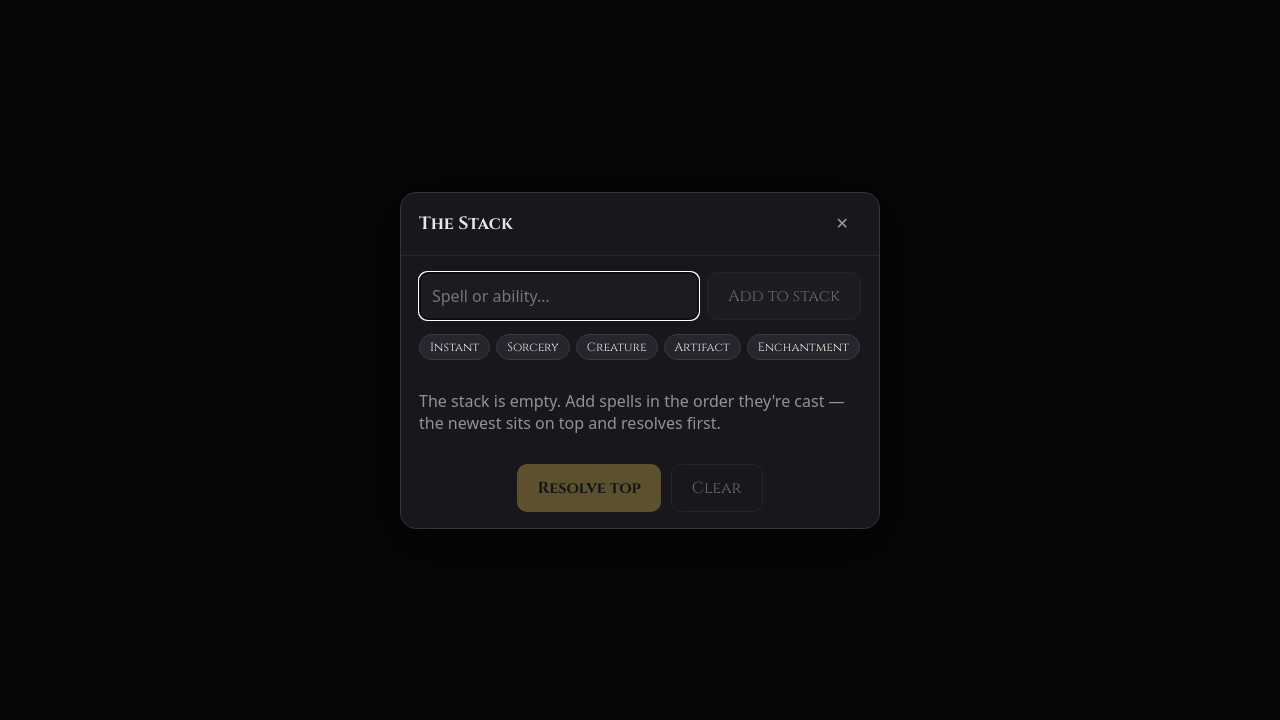
Test: the last thing added sits on top
In the field with placeholder "Spell or ability…": point(559, 296) [419, 272, 699, 320], type "Lightning Bolt"
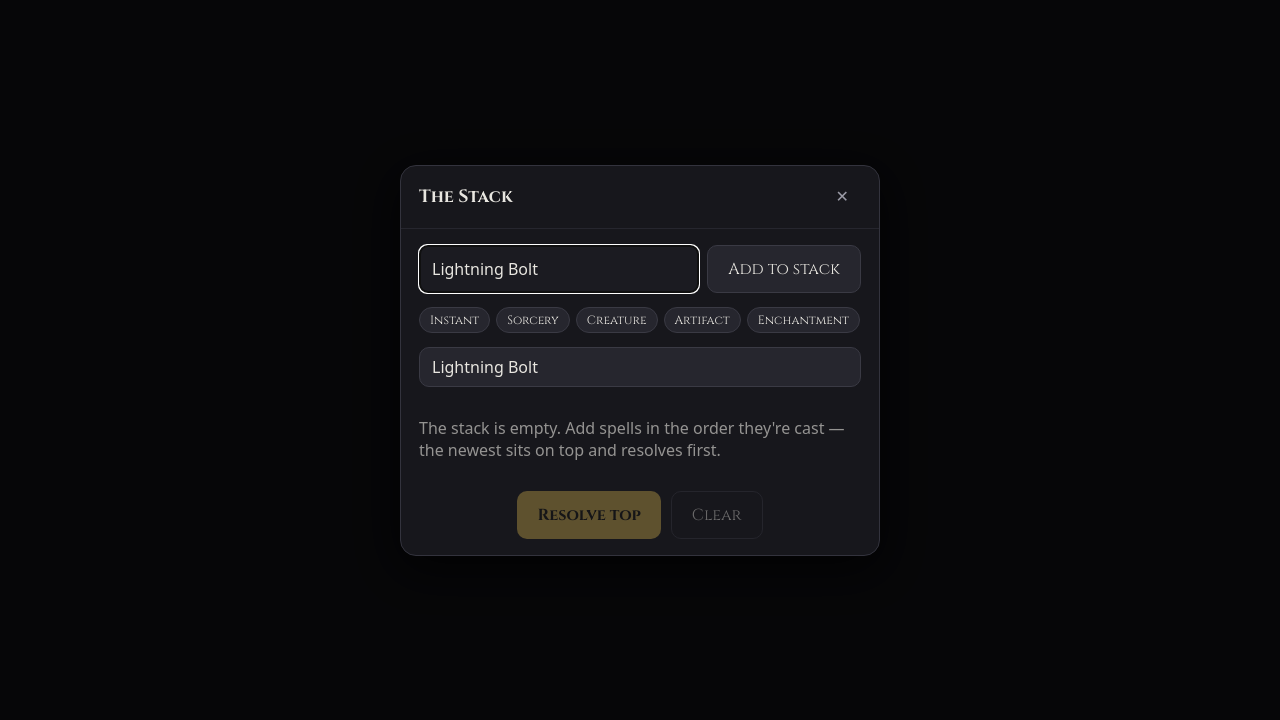
Click the button "Add to stack": point(784, 268) [707, 244, 861, 292]
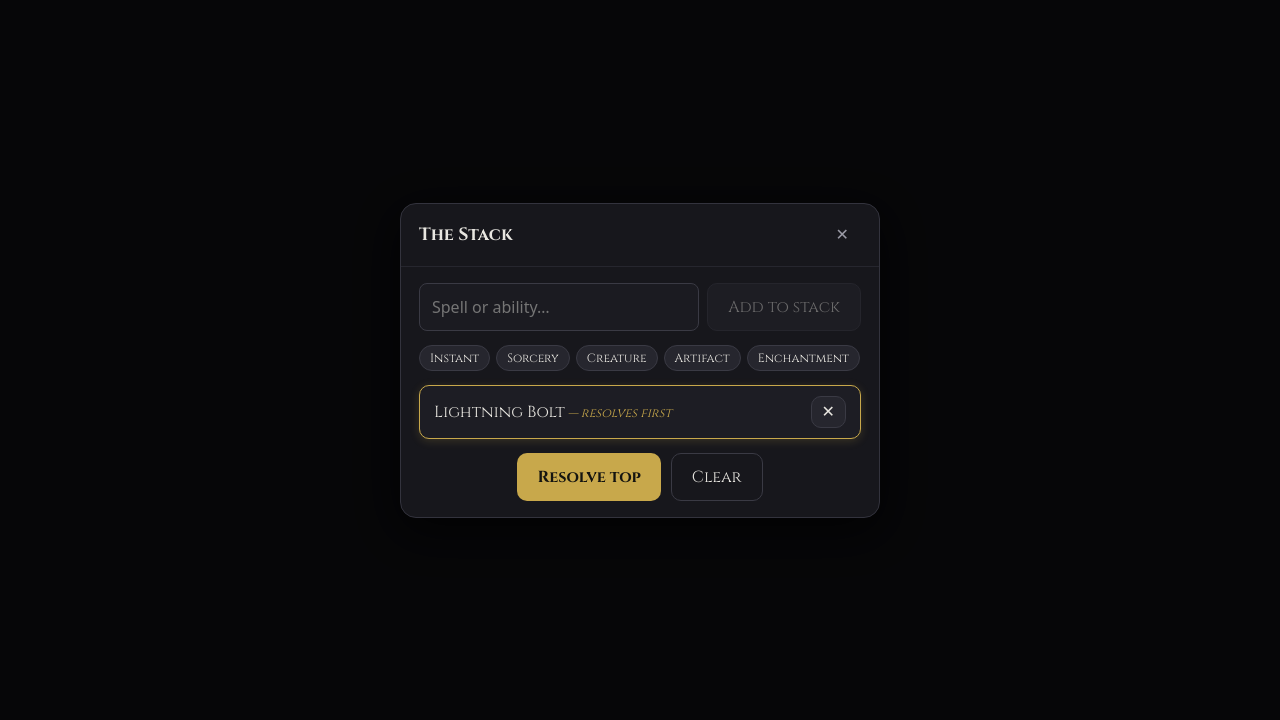
In the field with placeholder "Spell or ability…": point(559, 306) [419, 282, 699, 330], type "Counterspell"
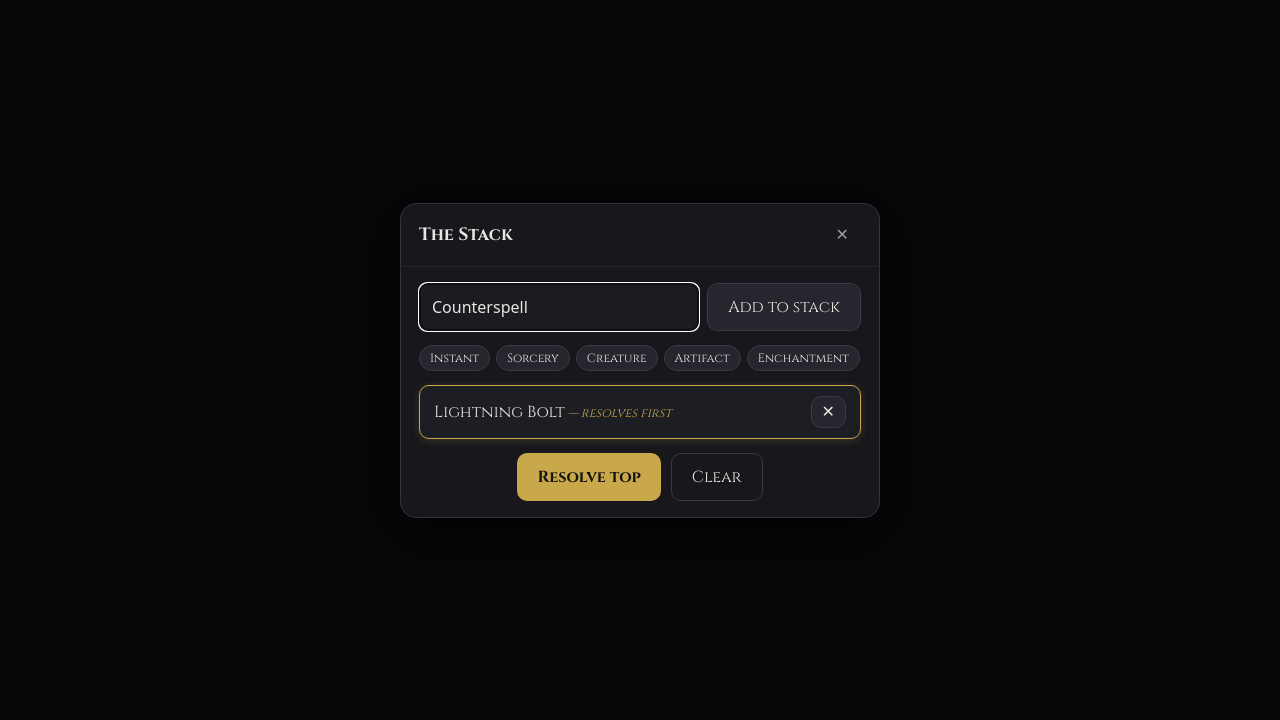
Click the button "Add to stack": point(784, 306) [707, 282, 861, 330]
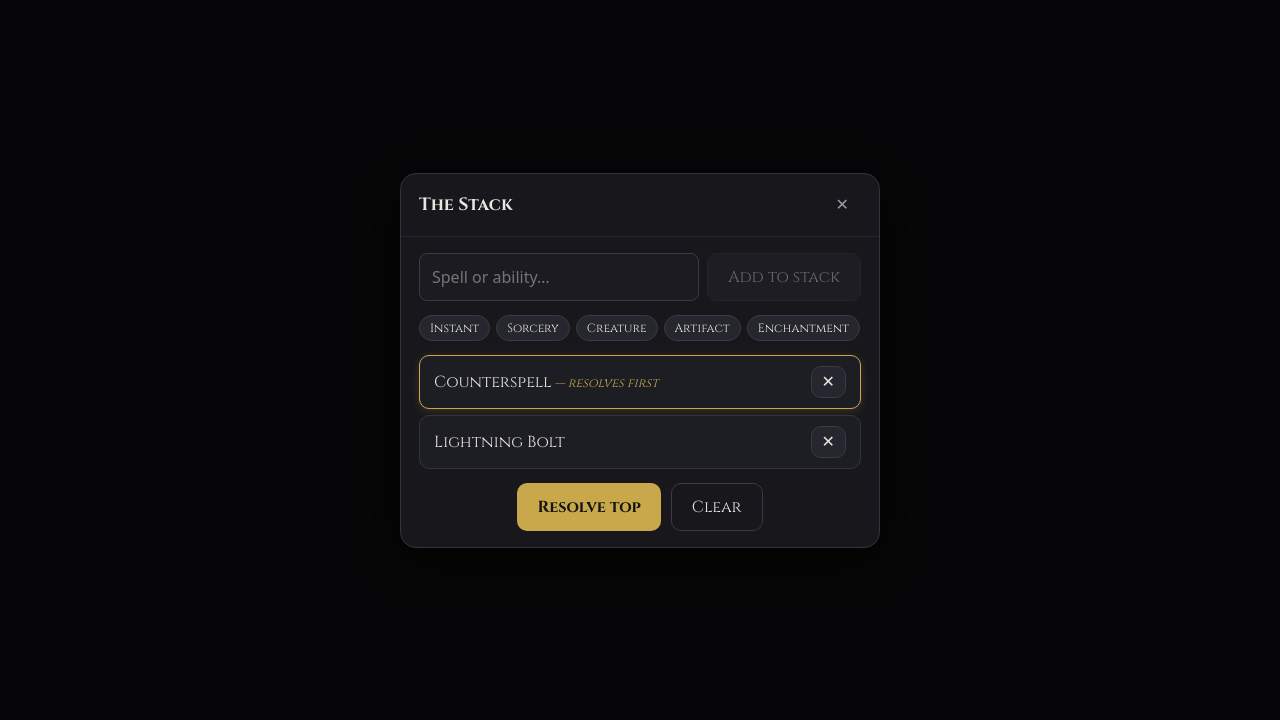
Now the list item with test id "stack-item" shows "Lightning Bolt", box [434, 430, 565, 452]
Now the list item with test id "stack-item" shows "Counterspell", box [434, 370, 552, 392]
Now the list item with test id "stack-item" shows "resolves first", box [552, 374, 658, 392]
